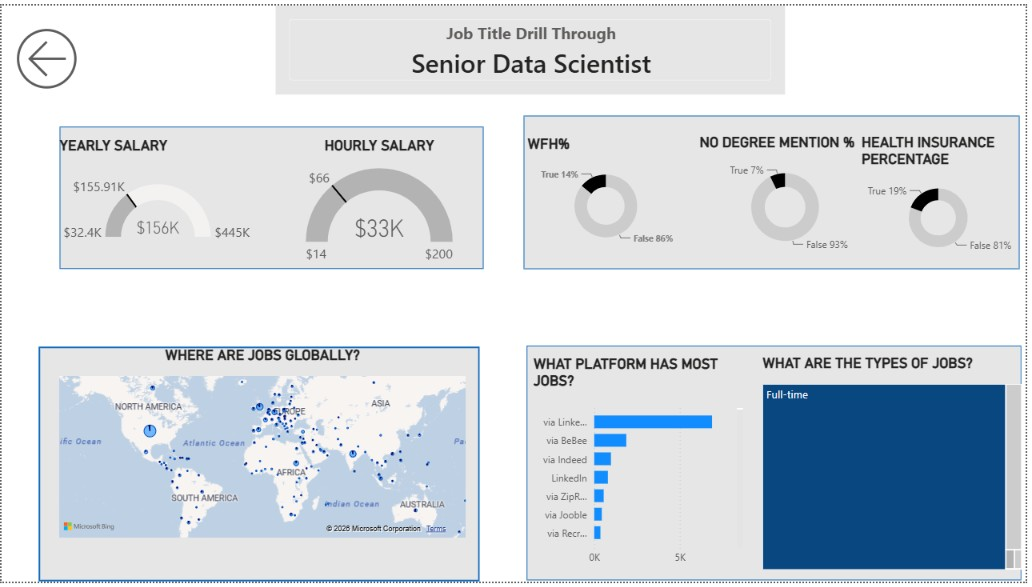

What the dashboard file says about the page in this screenshot:
{"tool":"powerbi","page":{"name":"Job Title Drill Through","canvas":[1280,720],"ordinal":1},"visuals":[{"type":"group","id":"g1","title":"Background","box":[46,138,1228,581.8],"z":0},{"type":"cardVisual","fields":{"Data":["Min(job_postings_flat.job_title_short)1"]},"box":[342,0,637.1,111.4],"z":1000},{"type":"actionButton","box":[10,20,95.7,92.9],"z":2000},{"type":"shape","box":[72,152,530,178],"z":2000,"group":"g1"},{"type":"shape","box":[652,138,620,192],"z":3000,"group":"g1"},{"type":"gauge","title":" YEARLY SALARY","fields":{"Y":["Median(job_postings_flat.salary_year_avg)"],"MinValue":["Min(job_postings_flat.salary_year_avg)1"],"MaxValue":["Max(job_postings_flat.salary_year_avg)"],"TargetValue":["Avg(job_postings_flat.salary_year_avg)"]},"box":[68,164,252.9,142.9],"z":3000},{"type":"shape","box":[655.4,425.6,618.6,293.5],"z":4000,"group":"g1"},{"type":"donutChart","title":"WFH%","fields":{"Category":["job_postings_flat.job_work_from_home"],"Y":["CountNonNull(job_postings_flat.job_work_from_home)"]},"box":[652,162,206,144],"z":5000},{"type":"shape","box":[46,426.3,551.4,293.5],"z":5000,"group":"g1"},{"type":"donutChart","title":"NO DEGREE MENTION %","fields":{"Category":["job_postings_flat.job_no_degree_mention"],"Y":["CountNonNull(job_postings_flat.job_no_degree_mention)"]},"box":[868,160,224,152],"z":6000},{"type":"donutChart","title":"HEALTH INSURANCE PERCENTAGE","fields":{"Y":["CountNonNull(job_postings_flat.job_health_insurance)"],"Category":["job_postings_flat.job_health_insurance"],"Series":["job_postings_flat.job_health_insurance"]},"box":[1070,160,202,158],"z":7000},{"type":"map","title":"WHERE ARE JOBS GLOBALLY?","fields":{"Category":["job_postings_flat.job_country"],"Size":["CountNonNull(job_postings_flat.job_title_short)"],"Series":["job_postings_flat.job_no_degree_mention"]},"box":[68,426,518,244],"z":8000},{"type":"treemap","title":"WHAT ARE THE TYPES OF JOBS?","fields":{"Values":["CountNonNull(job_postings_flat.job_schedule_type)"],"Group":["job_postings_flat.job_schedule_type"]},"box":[946,436,334,274],"z":9000},{"type":"barChart","title":"WHAT PLATFORM HAS MOST JOBS?","fields":{"Category":["job_postings_flat.job_via"],"Y":["CountNonNull(job_postings_flat.job_via)"]},"box":[660,438,272,270],"z":10000},{"type":"gauge","title":"HOURLY SALARY","fields":{"Y":["Sum(job_postings_flat.salary_hour_avg)"],"MinValue":["Min(job_postings_flat.salary_hour_avg)"],"MaxValue":["Max(job_postings_flat.salary_hour_avg)"],"TargetValue":["Avg(job_postings_flat.salary_hour_avg)"]},"box":[346,164,252,168],"z":10001}]}

Visuals, with their boxes in screenshot pixels (x1, y1, x2, y2), scaled from the page's 1280x720 canvas onto the 1032x587 screenshot:
"Background" group: 37, 113, 1027, 586
cardVisual - Min(job_postings_flat.job_title_short)1: 276, 0, 789, 91
actionButton: 8, 16, 85, 92
shape: 58, 124, 485, 269
shape: 526, 113, 1026, 269
" YEARLY SALARY" gauge: 55, 134, 259, 250
shape: 528, 347, 1027, 586
"WFH%" donutChart: 526, 132, 692, 249
shape: 37, 348, 482, 586
"NO DEGREE MENTION %" donutChart: 700, 130, 880, 254
"HEALTH INSURANCE PERCENTAGE" donutChart: 863, 130, 1026, 259
"WHERE ARE JOBS GLOBALLY?" map: 55, 347, 472, 546
"WHAT ARE THE TYPES OF JOBS?" treemap: 763, 355, 1031, 579
"WHAT PLATFORM HAS MOST JOBS?" barChart: 532, 357, 751, 577
"HOURLY SALARY" gauge: 279, 134, 482, 271
